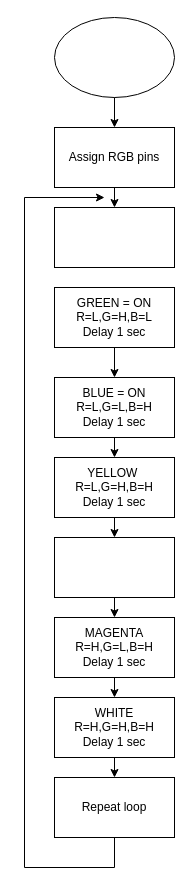
Image size: 192x893. Some labels were removed from this diagram. The centre of each missing label's shape, as x and y in pixels:
"CYAN R=H,G=L,B=H Delay 1 sec" belongs at [114,567].
"RED = ON R=H,G=L,B=L Delay 1 second" belongs at [114,237].
"Start" belongs at [114,57].
